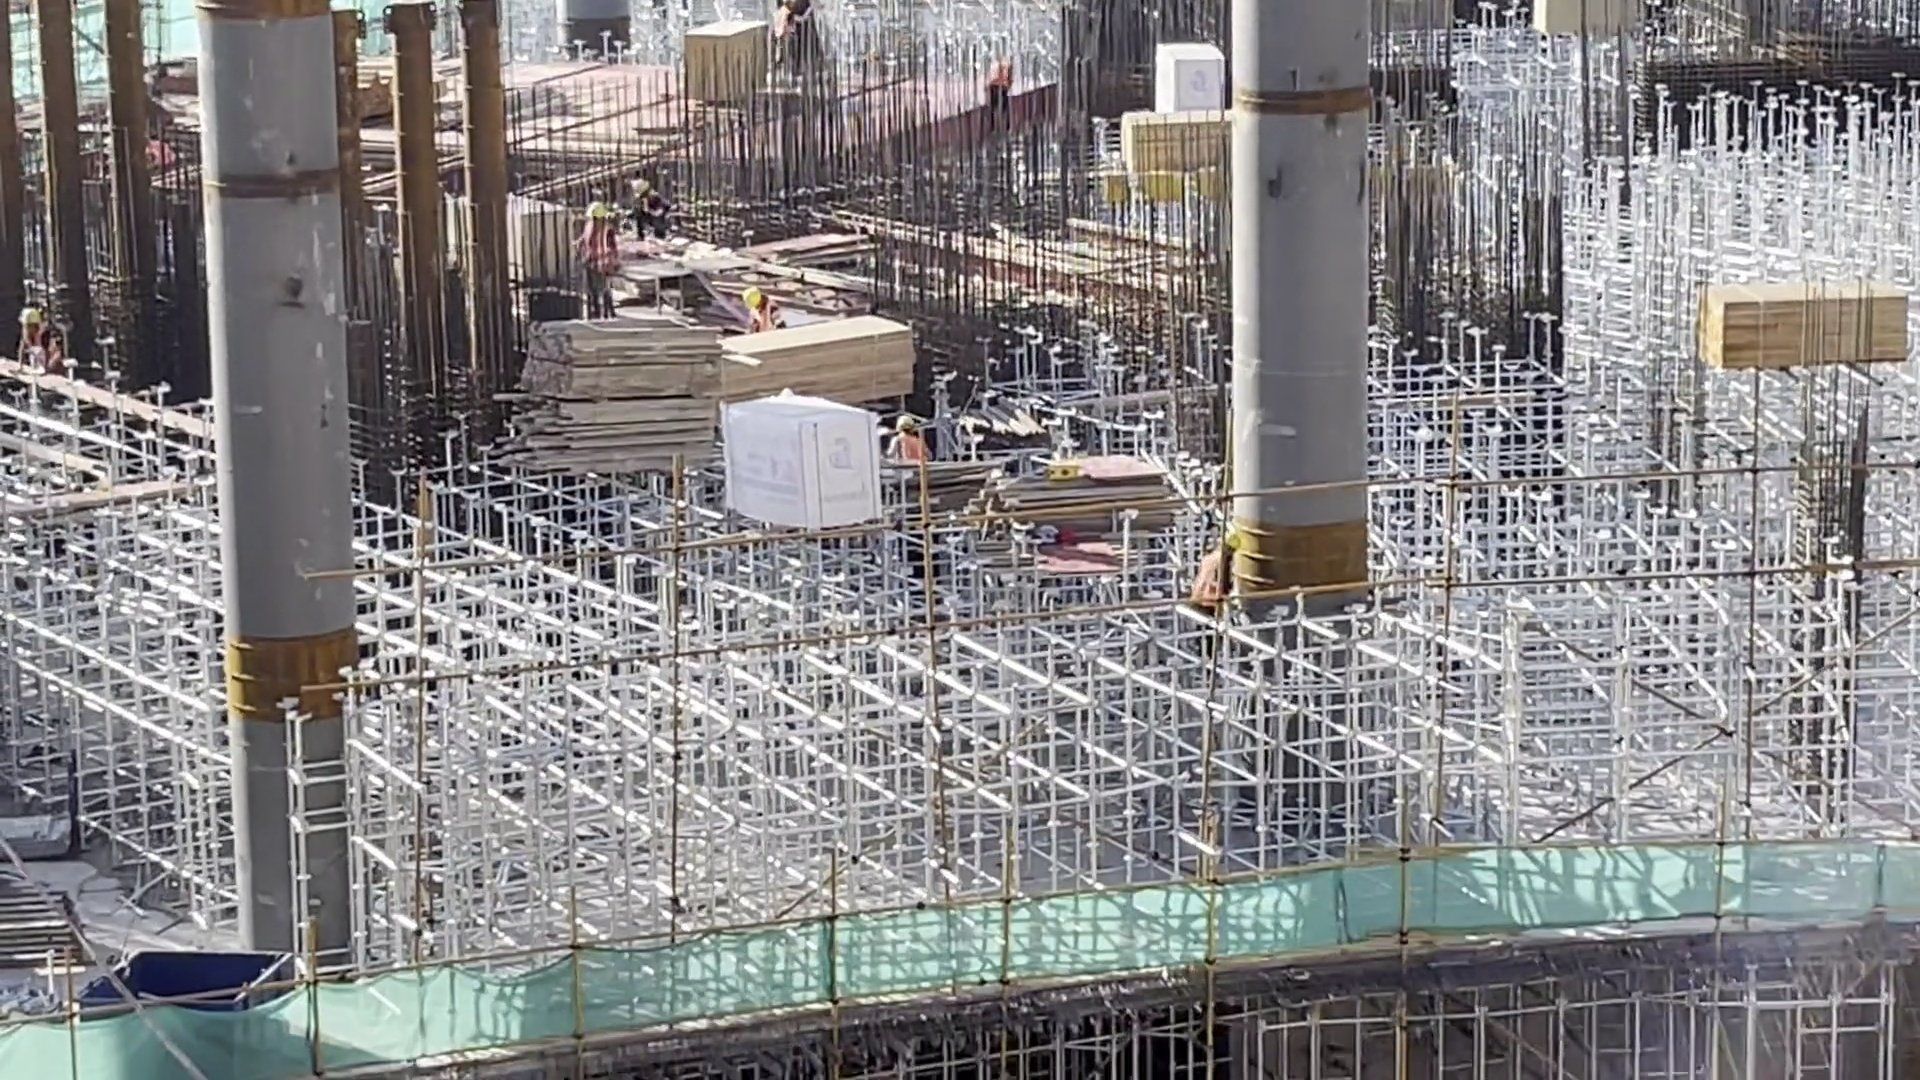helmet: (18, 308, 45, 327), (582, 202, 605, 219), (742, 286, 760, 308), (633, 179, 652, 196), (894, 417, 915, 430), (1224, 533, 1238, 549)
person: (1190, 529, 1240, 607), (12, 306, 61, 372), (739, 287, 790, 336), (632, 177, 670, 240), (883, 413, 931, 461), (772, 1, 811, 36)
vest: (1191, 551, 1221, 610), (584, 224, 616, 273), (22, 328, 60, 367), (751, 300, 781, 331), (891, 435, 925, 461), (773, 8, 794, 38)
